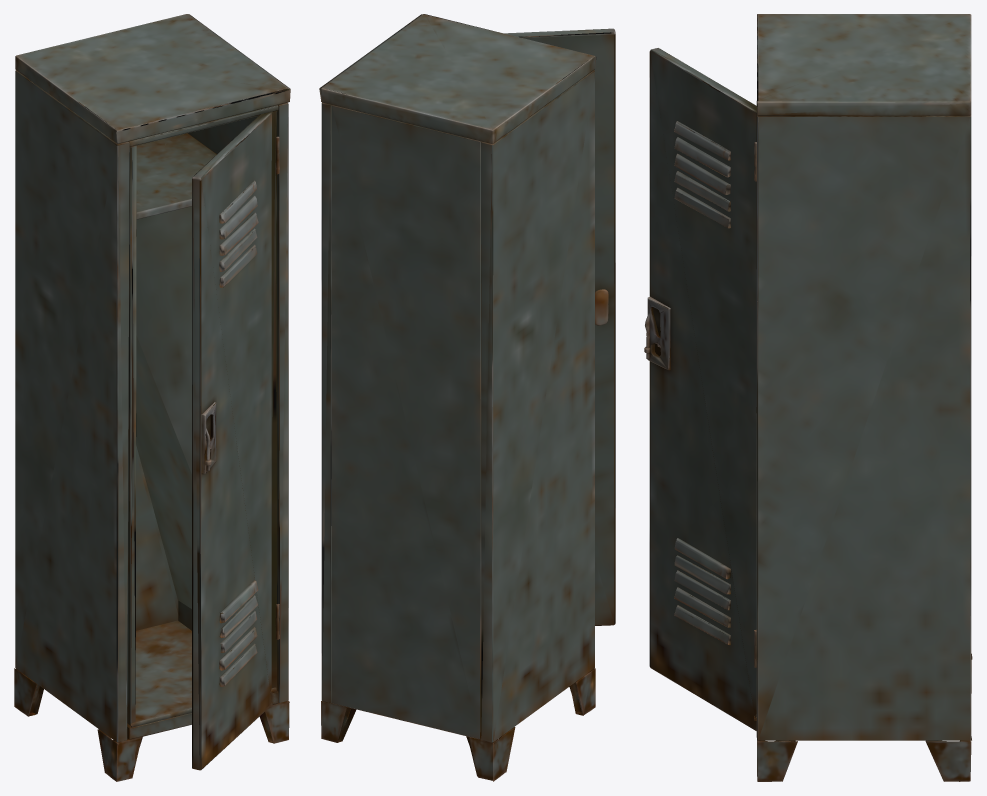
File: locker.glb
The picture shows the model from 3 angles, left to right: view 1: azimuth 30°, elevation 25°; view 2: azimuth 150°, elevation 25°; view 3: azimuth 270°, elevation 25°; orthographic projection. The views are drawn at different scales.
Visible parts, largest first — view 1: geometry_0; view 2: geometry_0; view 3: geometry_0.
Part boxes in pixels (x1,y1,x2,y2): geometry_0: [14, 14, 290, 781]; geometry_0: [319, 14, 615, 781]; geometry_0: [644, 14, 972, 781].
Bounding box in the file's own units: 0.2676 × 0.9512 × 0.4155.
1 material, 1 textured.
